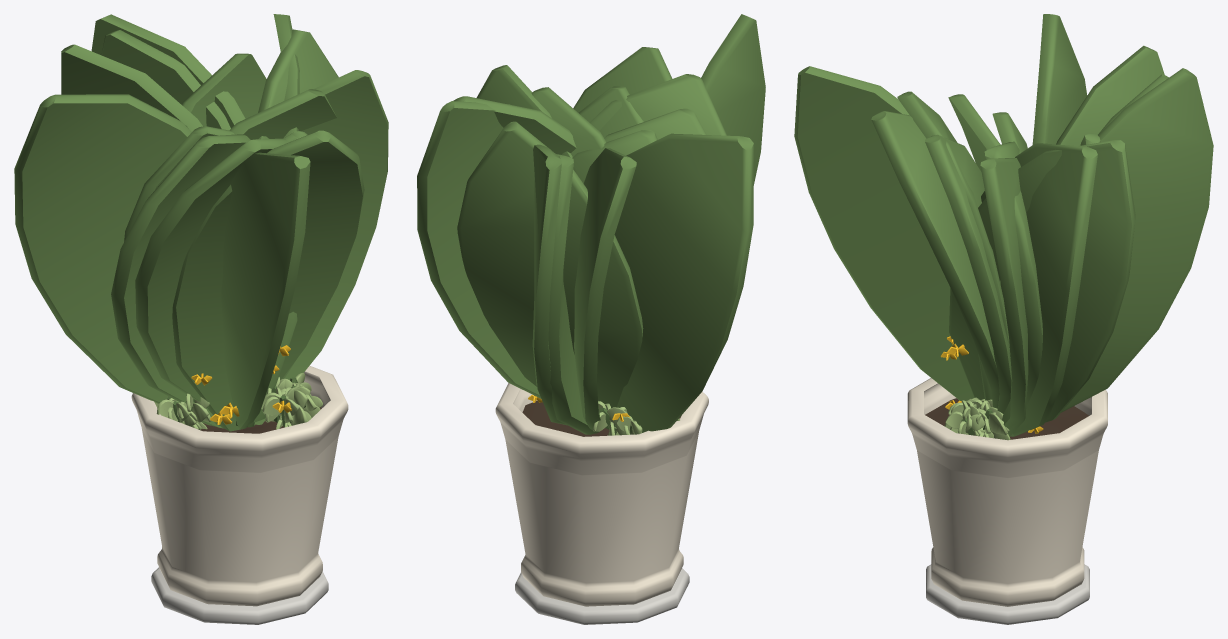
The model's file is sujet_feuilles_larges.glb.
3 views of the same model, side by side, from view 1: azimuth 30°, elevation 25°; view 2: azimuth 150°, elevation 25°; view 3: azimuth 270°, elevation 25° (orthographic). The views are drawn at different scales.
Visible parts, largest first — view 1: SUB_Feuille_Moyen, SUB_Pot_Creme, SUB_Embase, SUB_Feuille_Tendre, SUB_Fl_Jaune; view 2: SUB_Feuille_Moyen, SUB_Pot_Creme, SUB_Embase, SUB_Feuille_Tendre, SUB_Terre; view 3: SUB_Feuille_Moyen, SUB_Pot_Creme, SUB_Embase, SUB_Feuille_Tendre, SUB_Terre.
Part boxes in pixels (x1=…): SUB_Feuille_Moyen: x1=14, y1=14, x2=388, y2=431; SUB_Pot_Creme: x1=131, y1=365, x2=348, y2=606; SUB_Embase: x1=151, y1=567, x2=328, y2=624; SUB_Feuille_Tendre: x1=154, y1=372, x2=322, y2=430; SUB_Fl_Jaune: x1=191, y1=345, x2=292, y2=424; SUB_Feuille_Moyen: x1=417, y1=14, x2=765, y2=434; SUB_Pot_Creme: x1=495, y1=383, x2=708, y2=606; SUB_Embase: x1=515, y1=568, x2=689, y2=624; SUB_Feuille_Tendre: x1=592, y1=401, x2=679, y2=435; SUB_Terre: x1=522, y1=400, x2=681, y2=436; SUB_Feuille_Moyen: x1=794, y1=14, x2=1213, y2=436; SUB_Pot_Creme: x1=907, y1=378, x2=1107, y2=606; SUB_Embase: x1=926, y1=564, x2=1089, y2=624; SUB_Feuille_Tendre: x1=944, y1=397, x2=1010, y2=440; SUB_Terre: x1=925, y1=398, x2=1088, y2=439.
Bounding box in the file's own units: 0.9862 × 1.45 × 1.09.
